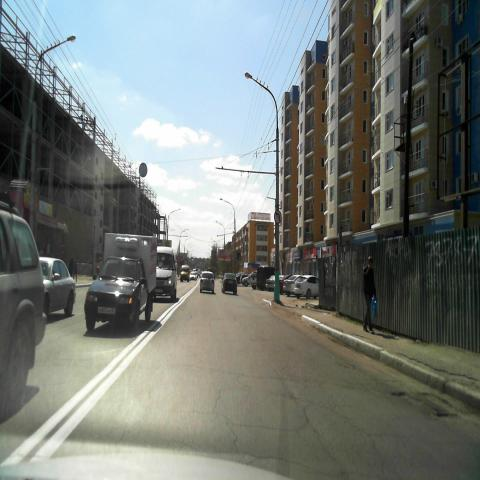3_18_2: (274, 210, 282, 224)
